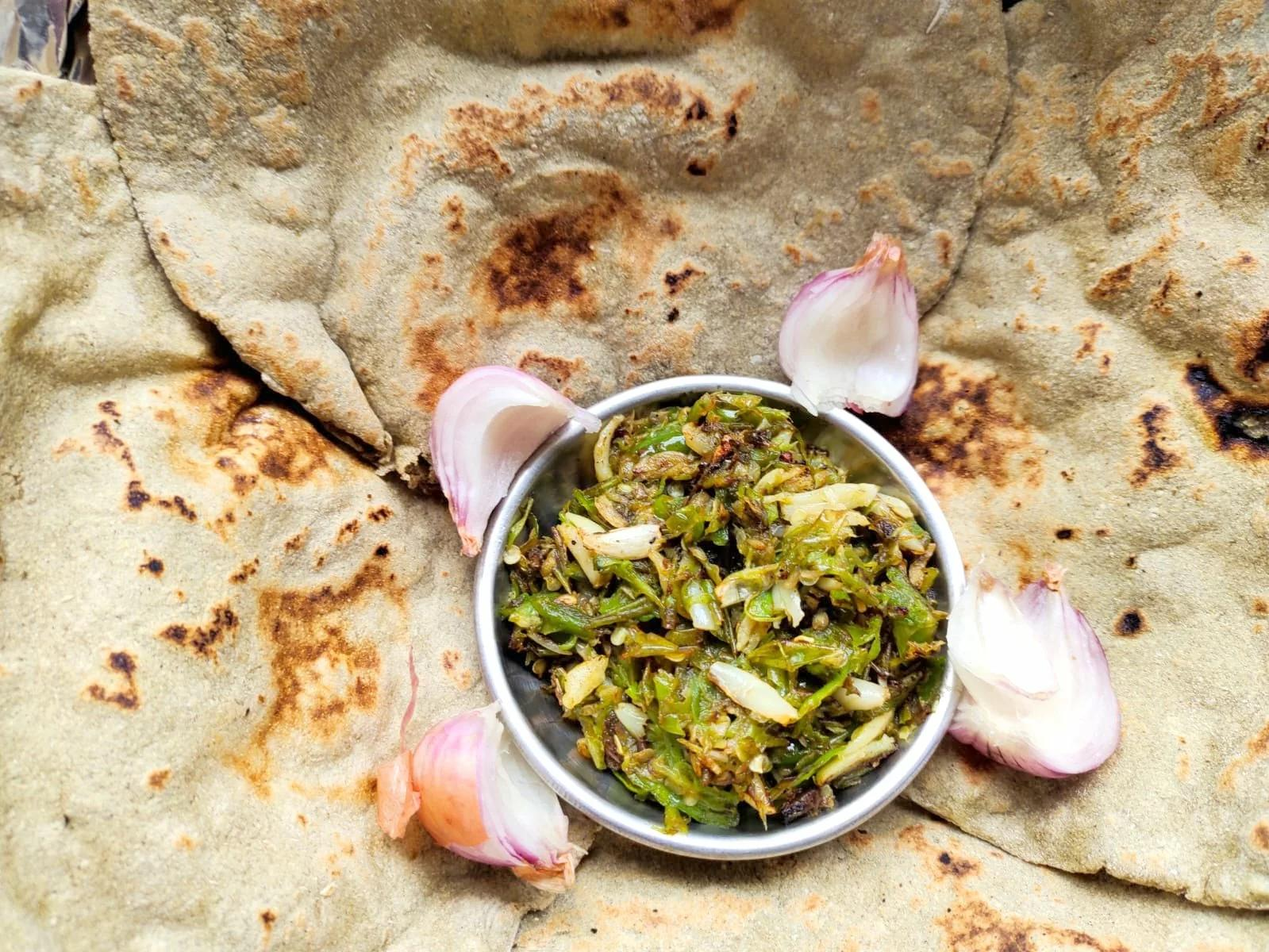bhakri: (6, 72, 554, 952), (98, 0, 1027, 482), (824, 1, 1269, 903), (353, 569, 1268, 952)
salad: (947, 556, 1144, 794), (379, 675, 565, 910), (768, 242, 946, 424), (424, 366, 584, 531)
